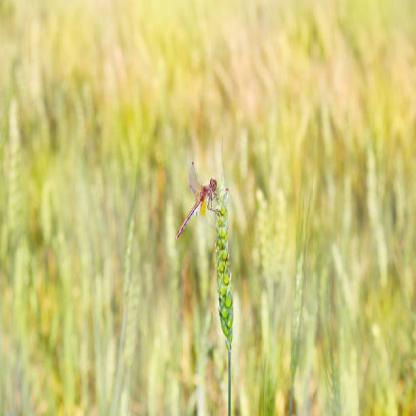sawfly: (173, 157, 228, 238)
